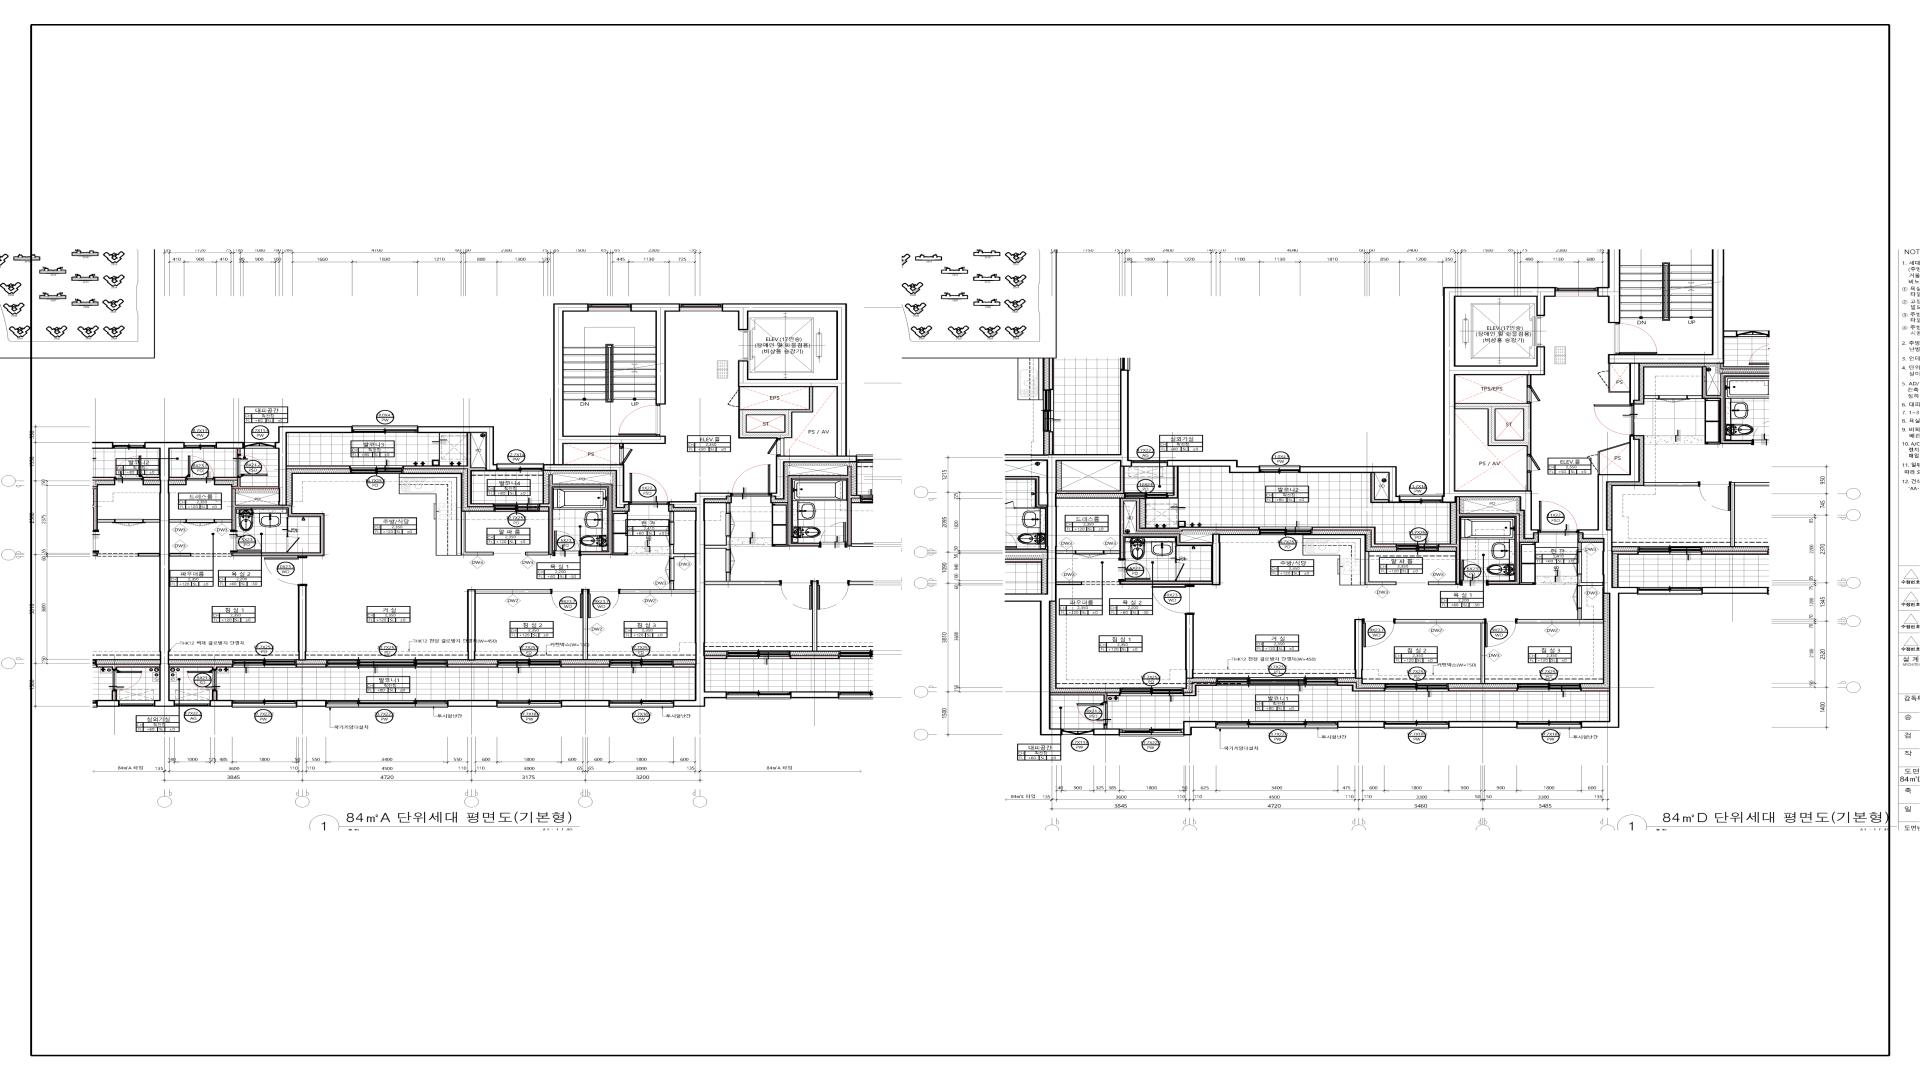door: (618, 404, 661, 436), (1614, 323, 1657, 354), (630, 473, 669, 505), (1153, 585, 1195, 614), (1539, 501, 1577, 533), (264, 557, 307, 585), (587, 589, 621, 618), (551, 589, 583, 619), (1363, 619, 1396, 648), (1485, 619, 1518, 648), (1460, 559, 1488, 586), (553, 530, 581, 557), (1118, 559, 1151, 581), (1077, 702, 1108, 725), (230, 530, 262, 552), (187, 455, 214, 481), (237, 454, 267, 477), (187, 670, 217, 690), (619, 444, 634, 464), (727, 387, 740, 409), (1527, 454, 1541, 473), (1527, 385, 1541, 403), (186, 519, 215, 527), (286, 536, 300, 552), (1076, 550, 1104, 558), (1175, 562, 1185, 581)
wall: (1443, 287, 1556, 539), (722, 303, 858, 500), (1040, 455, 1132, 736), (543, 303, 666, 508), (1608, 220, 1725, 405), (1578, 435, 1640, 728), (669, 493, 732, 707), (144, 442, 185, 707), (1119, 498, 1260, 559), (1439, 497, 1520, 585), (402, 433, 495, 507), (231, 489, 325, 556), (275, 426, 353, 506), (539, 474, 613, 555), (467, 590, 551, 660), (1395, 619, 1485, 684), (630, 303, 681, 405), (1598, 220, 1645, 323), (1300, 466, 1401, 503), (417, 426, 498, 472), (1057, 467, 1125, 494), (1312, 527, 1397, 547), (461, 512, 494, 556), (1517, 608, 1603, 623), (1167, 460, 1261, 473), (1365, 551, 1397, 585), (621, 581, 695, 594), (1520, 542, 1536, 585), (298, 586, 306, 660), (1185, 615, 1194, 679), (1370, 473, 1389, 503), (1051, 692, 1107, 702), (232, 477, 278, 489), (1183, 721, 1217, 736), (1448, 721, 1518, 728), (1337, 682, 1385, 692), (1183, 682, 1217, 696), (1355, 619, 1363, 678), (1212, 534, 1221, 585), (170, 664, 233, 670), (670, 544, 695, 559), (1119, 581, 1212, 585), (1168, 467, 1179, 499), (583, 590, 588, 660), (447, 700, 497, 707), (561, 700, 610, 707), (1337, 721, 1385, 728), (287, 465, 351, 470), (1577, 574, 1603, 586), (1448, 688, 1518, 692), (296, 700, 327, 707), (447, 664, 498, 668), (561, 664, 610, 668), (216, 442, 244, 449), (209, 700, 233, 707), (1093, 729, 1120, 735), (296, 664, 327, 668), (1580, 688, 1609, 692), (1428, 581, 1456, 585), (1057, 581, 1082, 585), (673, 664, 695, 668), (170, 553, 191, 557), (214, 477, 238, 480), (525, 552, 549, 555), (170, 519, 186, 523), (215, 519, 231, 523), (1057, 551, 1076, 554), (212, 691, 218, 700), (170, 477, 187, 480), (1104, 551, 1119, 554), (670, 512, 674, 522), (1578, 542, 1582, 552), (1107, 693, 1120, 696), (237, 449, 241, 454), (1104, 725, 1107, 729), (1168, 493, 1173, 495)
window: (327, 659, 447, 667), (327, 700, 447, 708), (1217, 721, 1337, 729), (1218, 678, 1337, 686), (233, 659, 296, 668), (610, 659, 672, 668), (1386, 683, 1448, 692), (1518, 683, 1580, 692), (353, 425, 418, 433), (610, 700, 673, 708), (498, 700, 561, 708), (233, 700, 296, 708), (498, 659, 561, 667), (1385, 721, 1448, 729), (1518, 721, 1581, 729), (1121, 688, 1183, 696), (1120, 729, 1183, 736), (1260, 527, 1312, 535), (351, 466, 402, 474), (495, 503, 539, 512), (1556, 287, 1598, 296), (1646, 220, 1687, 229), (498, 463, 543, 471), (1401, 495, 1443, 503), (1397, 544, 1438, 552), (1261, 465, 1299, 473), (1125, 492, 1168, 499), (1132, 460, 1166, 467), (185, 442, 216, 449), (245, 442, 275, 449), (176, 701, 209, 707), (1062, 729, 1093, 735)
